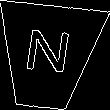N_S: (21, 29, 75, 84)
